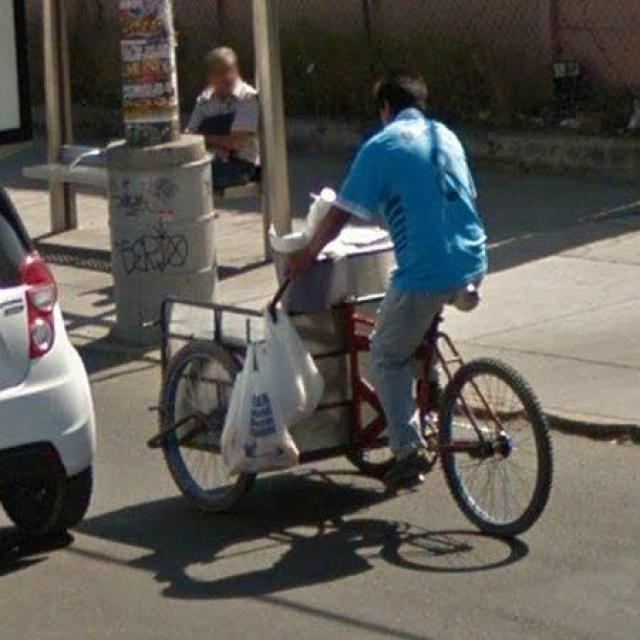bicycle: (419, 318, 554, 538), (151, 301, 262, 514), (293, 303, 395, 479)
